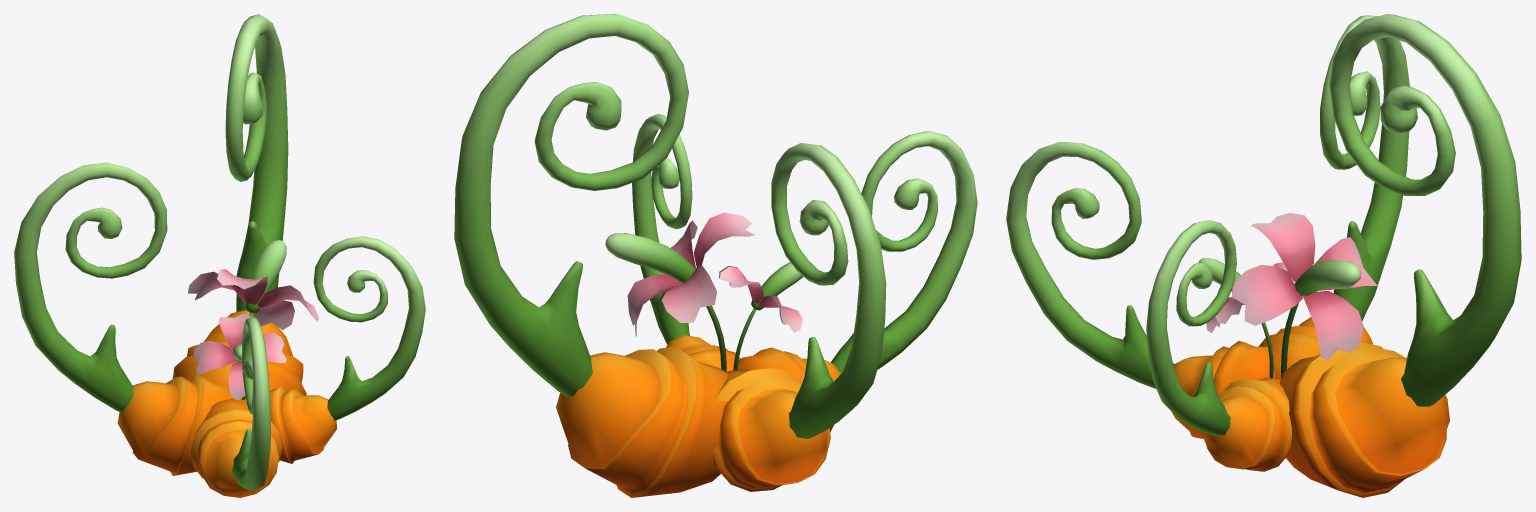
Rendered from wp_noPot_4.fbx.
3 views of the same model, side by side, from view 1: azimuth 30°, elevation 25°; view 2: azimuth 150°, elevation 25°; view 3: azimuth 270°, elevation 25° (orthographic). The views are drawn at different scales.
Visible parts, largest first — view 1: w_pl4.003; view 2: w_pl4.003; view 3: w_pl4.003.
Boxes of the visible parts, x1=… form: w_pl4.003: x1=14, y1=14, x2=425, y2=497; w_pl4.003: x1=454, y1=14, x2=977, y2=497; w_pl4.003: x1=1006, y1=14, x2=1521, y2=497.
Bounding box in the file's own units: 127 × 155 × 149.
